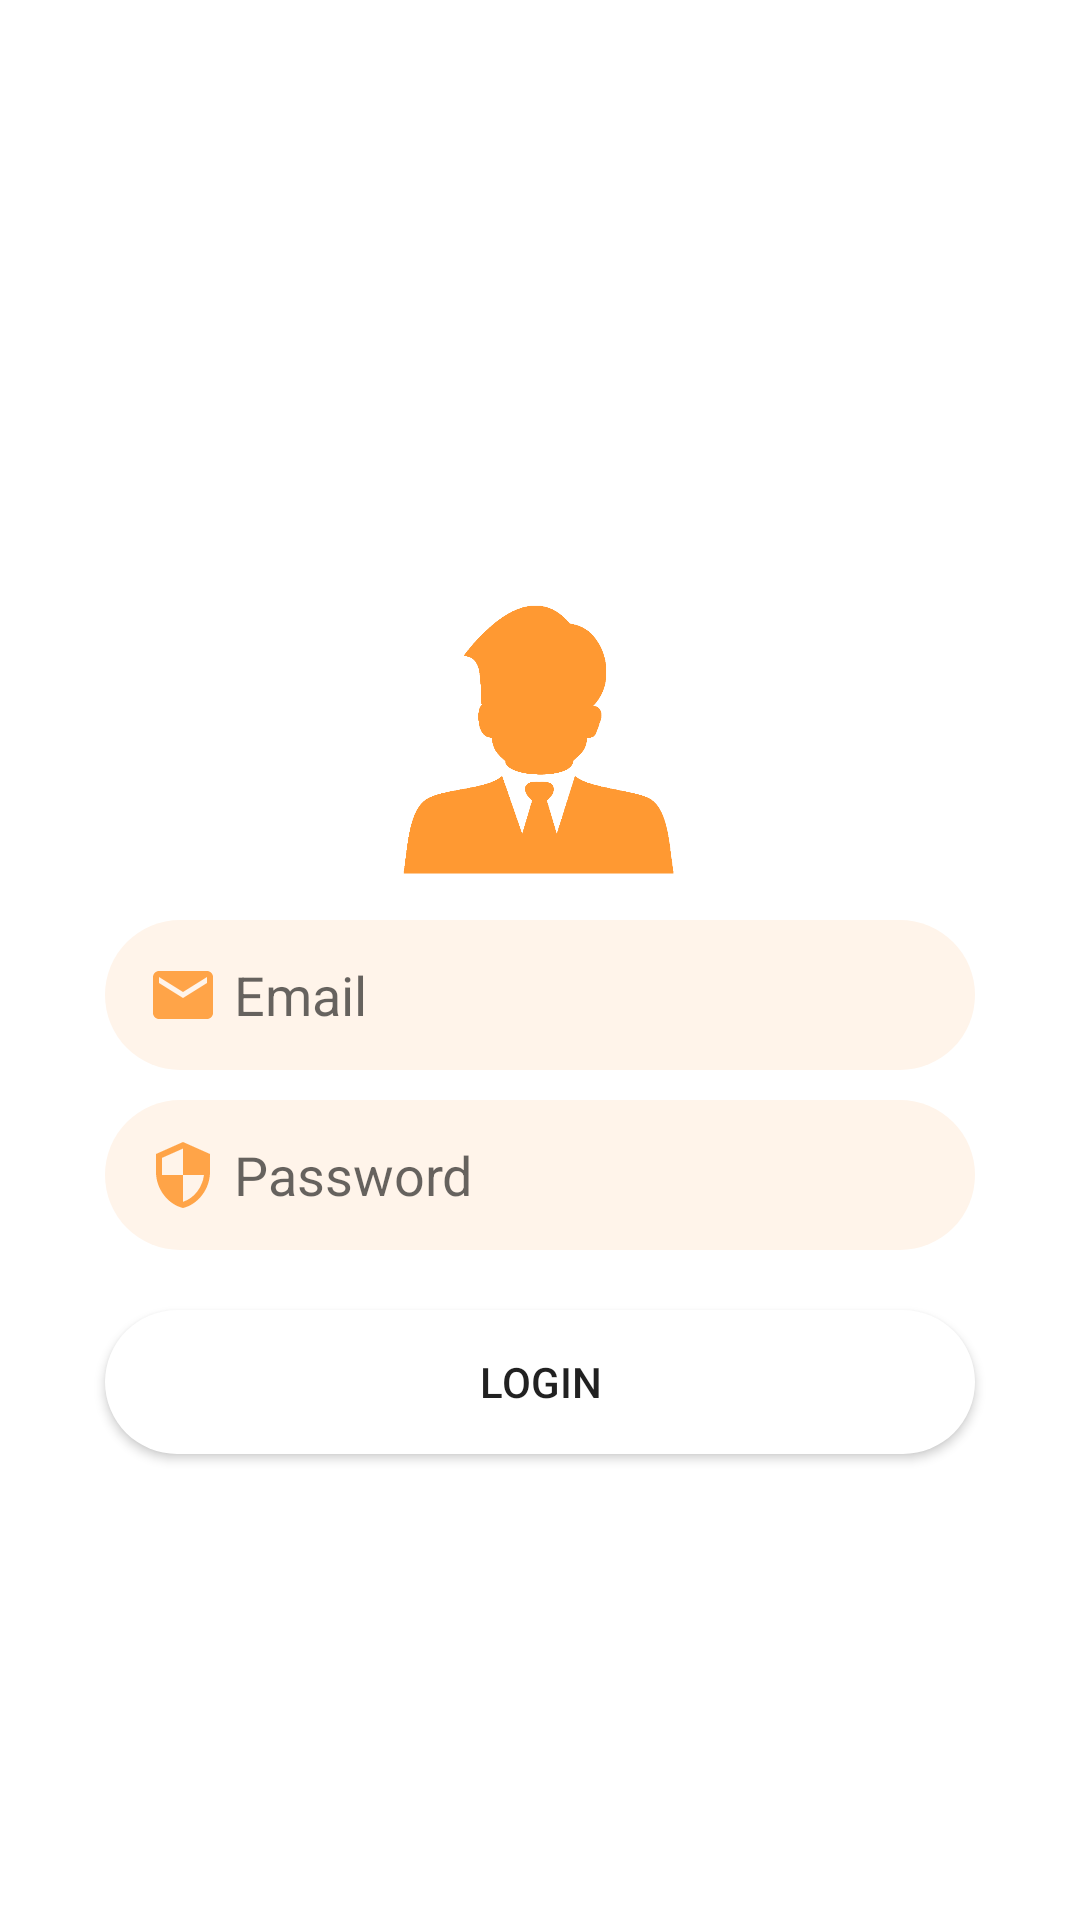

Screen size 1080px×1920px. Icon name, then its box in pixels as Rect(x1, y1, x2, y2):
employee: Rect(403, 606, 674, 874)
